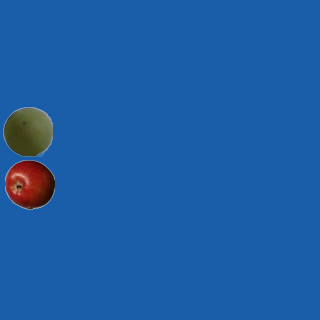Apple Braeburn: (4, 159, 54, 209)
Grape White 4: (2, 106, 52, 156)
